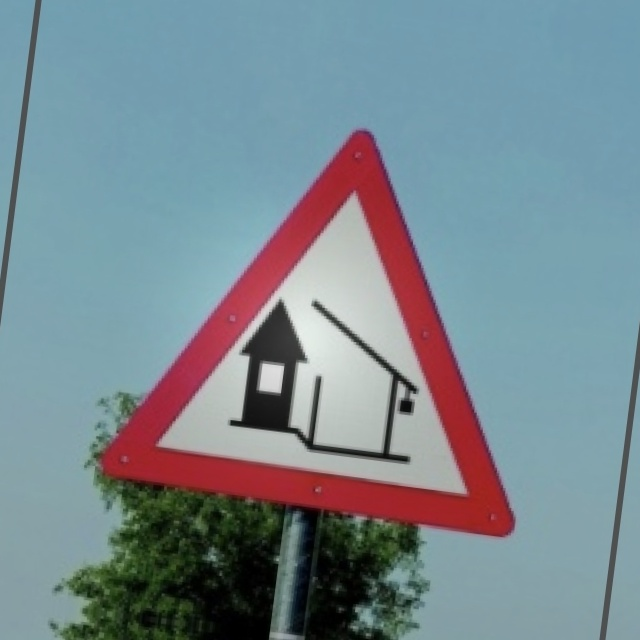Barrier_Ahead: (115, 106, 548, 542)
